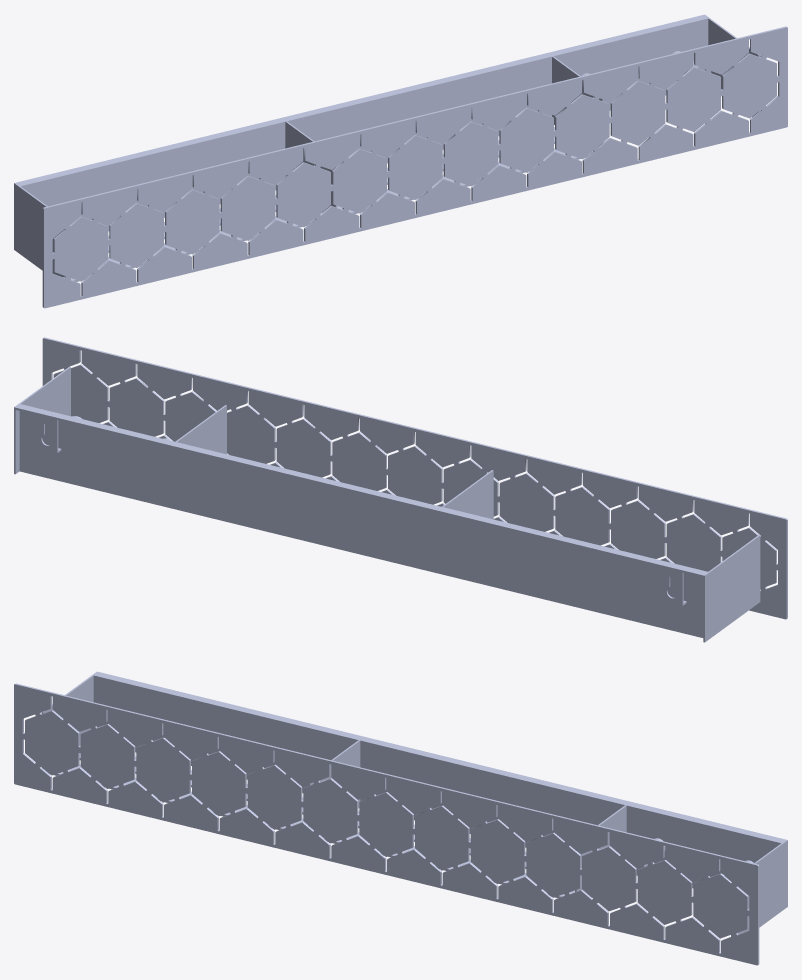
File: bee-patron.7aebdb95ed.glb
The picture shows the model from 3 angles, top to bottom: view 1: azimuth 30°, elevation 25°; view 2: azimuth 150°, elevation 25°; view 3: azimuth 330°, elevation 25°; orthographic projection.
Parts seen in each view (by area): view 1: NAUO1; view 2: NAUO1; view 3: NAUO1.
Boxes of the visible parts, <box> form: NAUO1: <box>14,14,787,308</box>; NAUO1: <box>14,337,787,642</box>; NAUO1: <box>14,671,787,965</box>.
Size of the model in its own units: 0.7 by 0.09 by 0.092.
